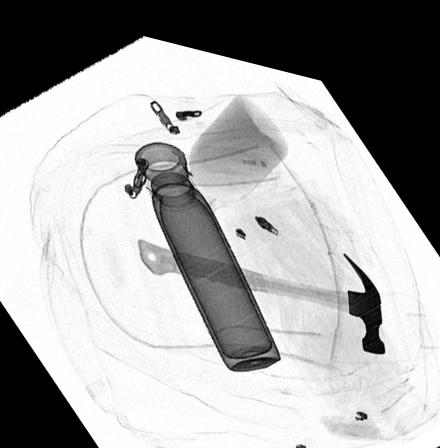Hammer: (136, 230, 385, 336)
